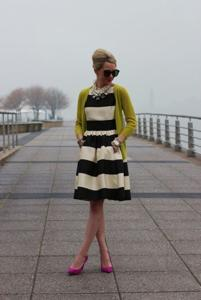S_cardigan sweater: (68, 84, 149, 161)
